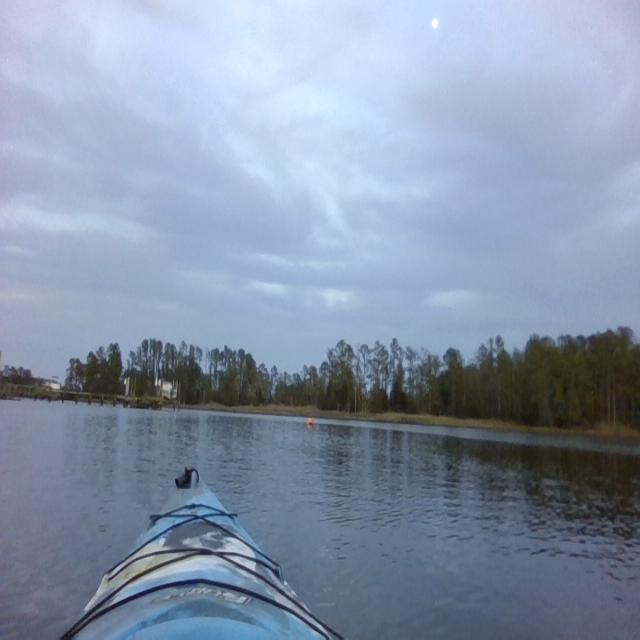Buoy: (308, 414, 315, 431)
